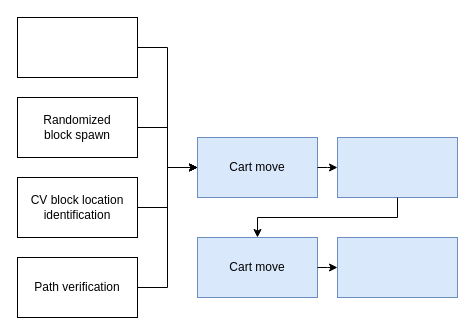
The diagram is 475 pixels wide and 335 high, and some of its shapes have lost their labels. The shapes that lost their labels are listed below. From the top down, each one's centre as x and y in pixels, then its label:
(77,47): ROS publish/subscribe initialization
(397,167): Pick block
(397,267): Place block
